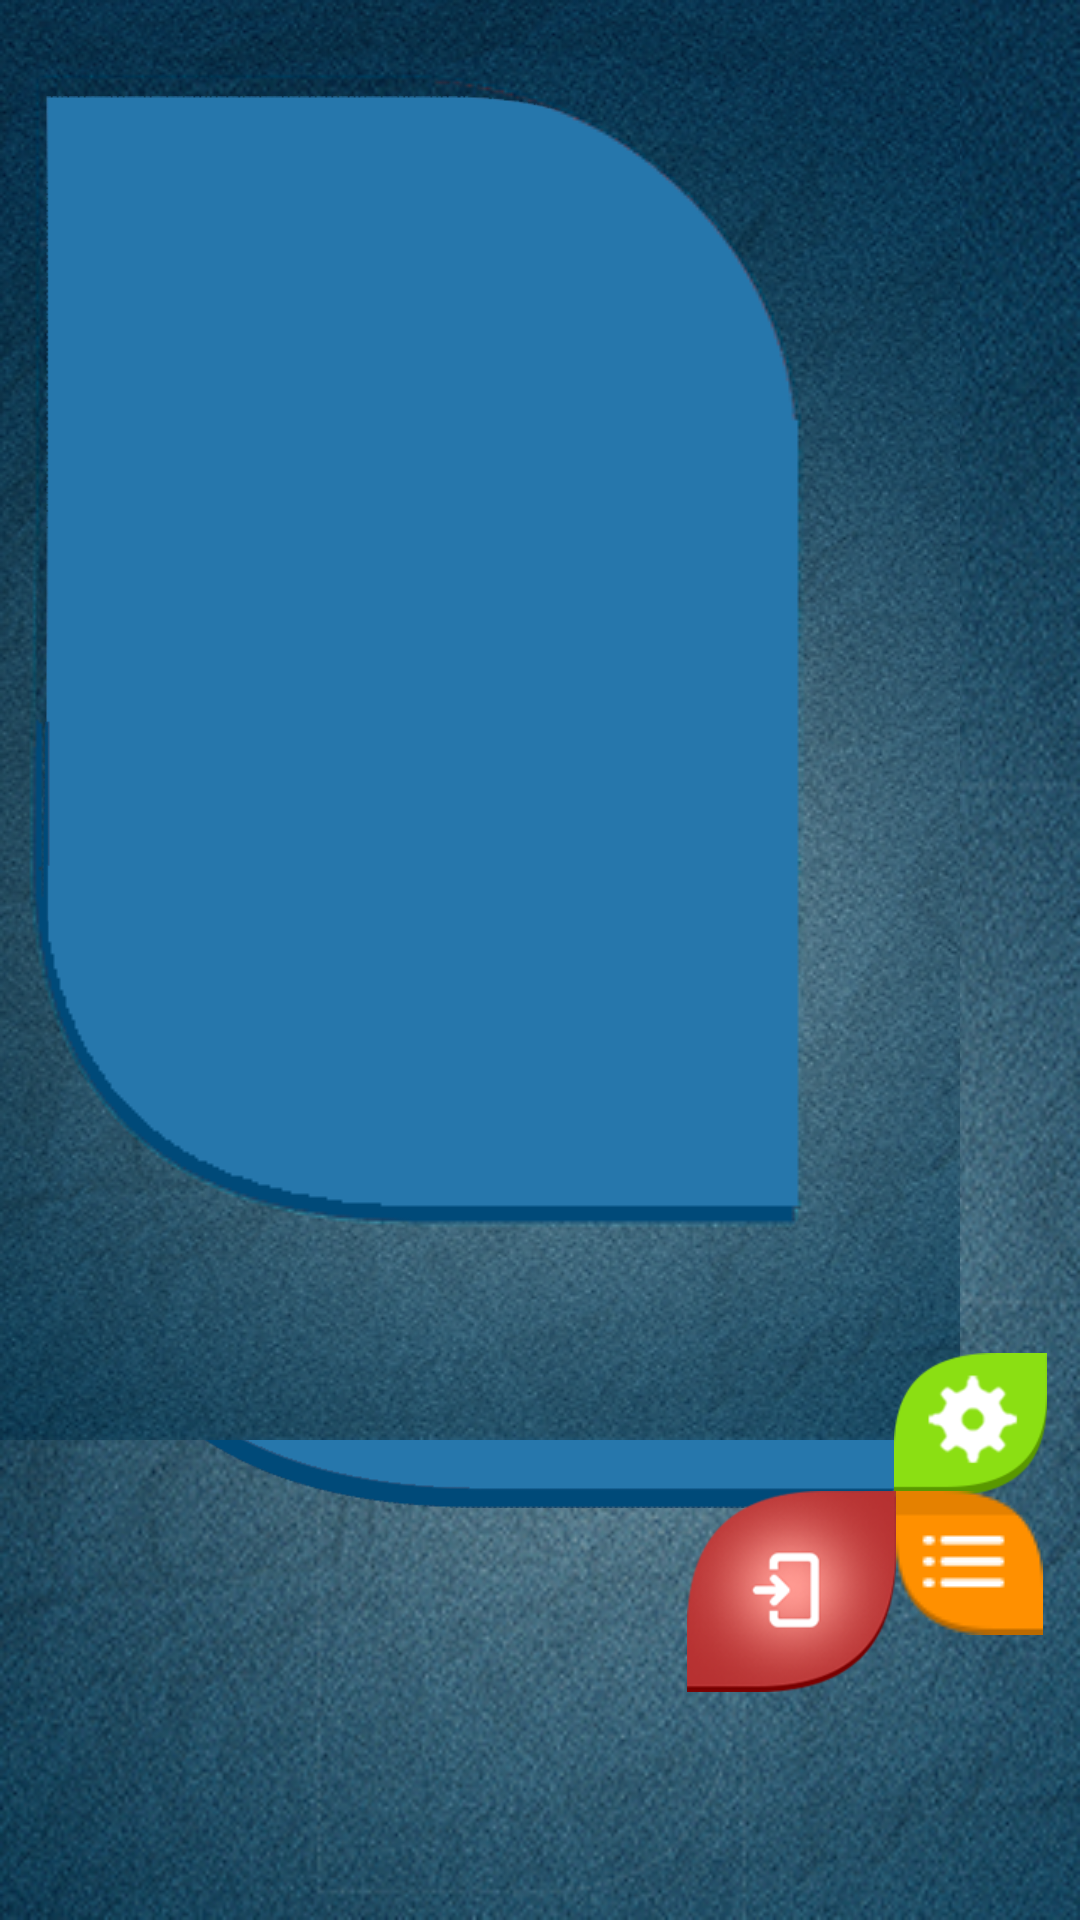

Point at icon controls on the screen. Image size 1080px×1920px, points as point (x, y).
menu: point (969, 1563)
settings: point (970, 1424)
